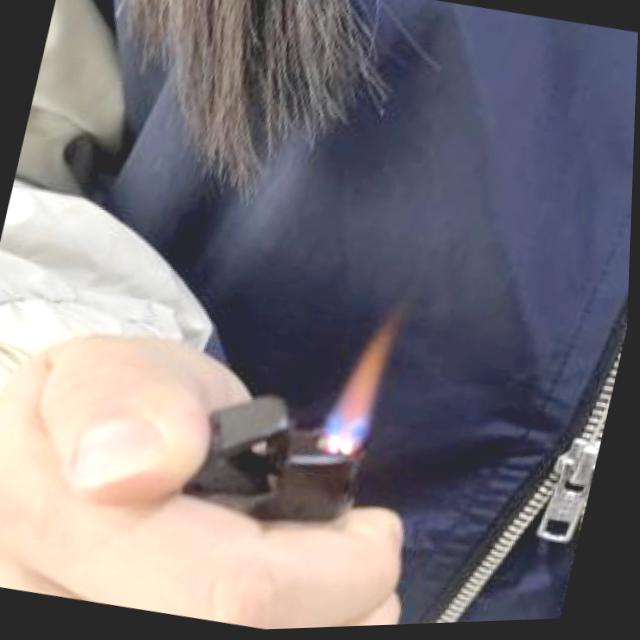fire: (321, 287, 413, 467)
